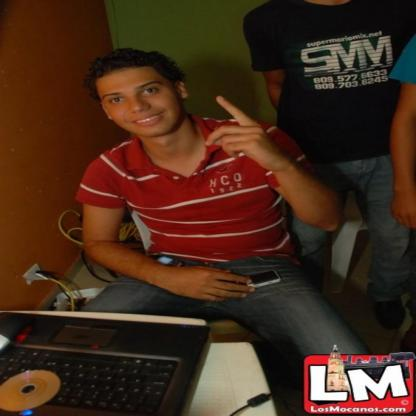board: (0, 308, 207, 416)
